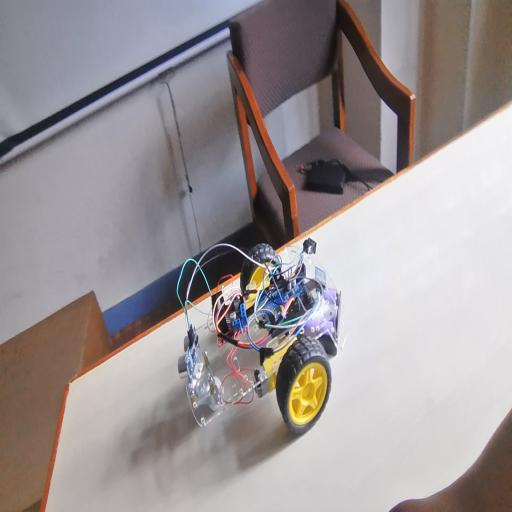car: (150, 202, 321, 436)
